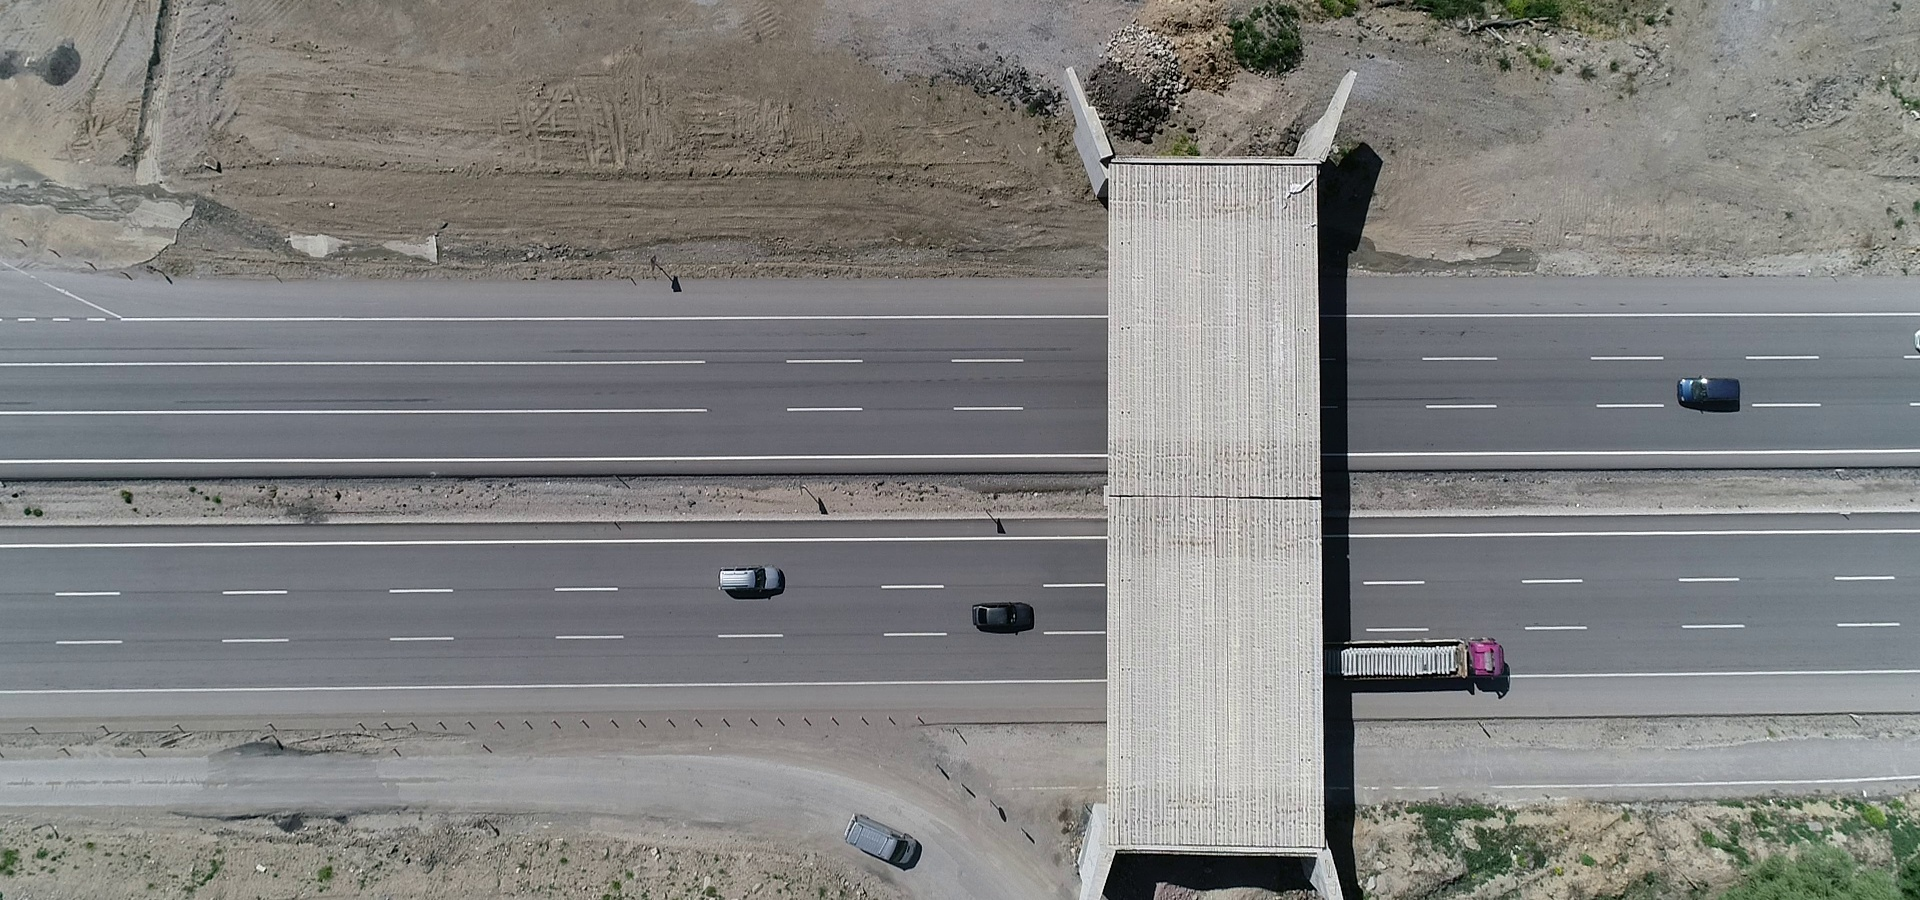araba: (846, 806, 924, 872), (711, 556, 789, 601), (1671, 372, 1753, 411), (971, 599, 1042, 638)
kamyon: (1325, 629, 1513, 696)
